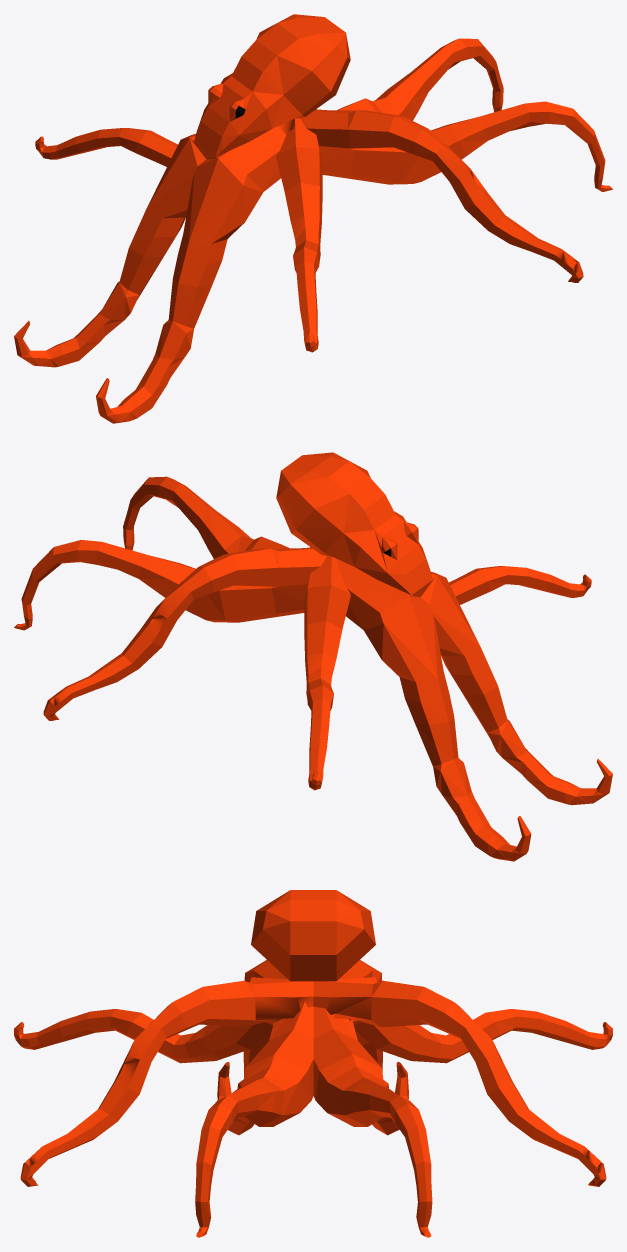
Rendered from PULPO.fbx.
3 renders of one model, top to bottom at view 1: azimuth 30°, elevation 25°; view 2: azimuth 150°, elevation 25°; view 3: azimuth 270°, elevation 25°, orthographic. The views are drawn at different scales.
Visible parts, largest first — view 1: Model; view 2: Model; view 3: Model.
Boxes of the visible parts, x1,y1,x2,y2 form: Model: (14,14,612,423); Model: (14,452,612,861); Model: (14,890,612,1237).
Bounding box in the file's own units: 1.05 × 0.6287 × 0.992.
